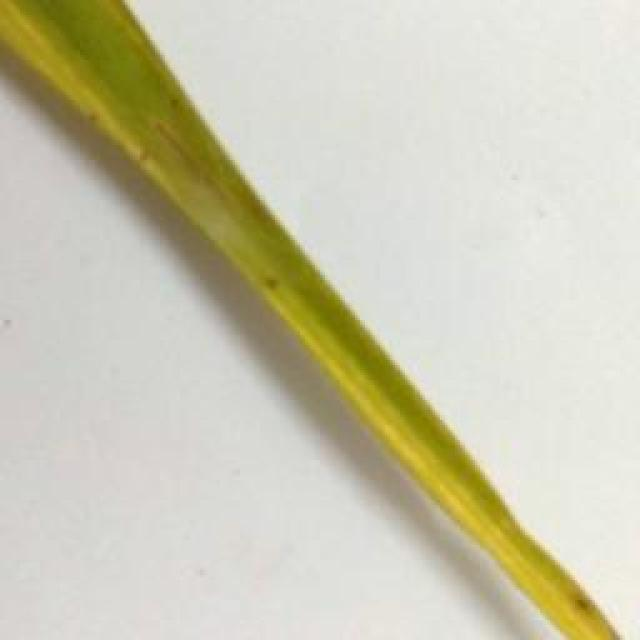Brown_Spot: (254, 262, 288, 304), (166, 66, 186, 123), (576, 586, 602, 616), (80, 108, 104, 132), (128, 140, 150, 166)
